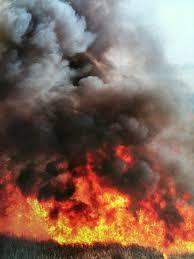fire: (0, 146, 193, 253)
yanwu: (0, 0, 190, 204)
